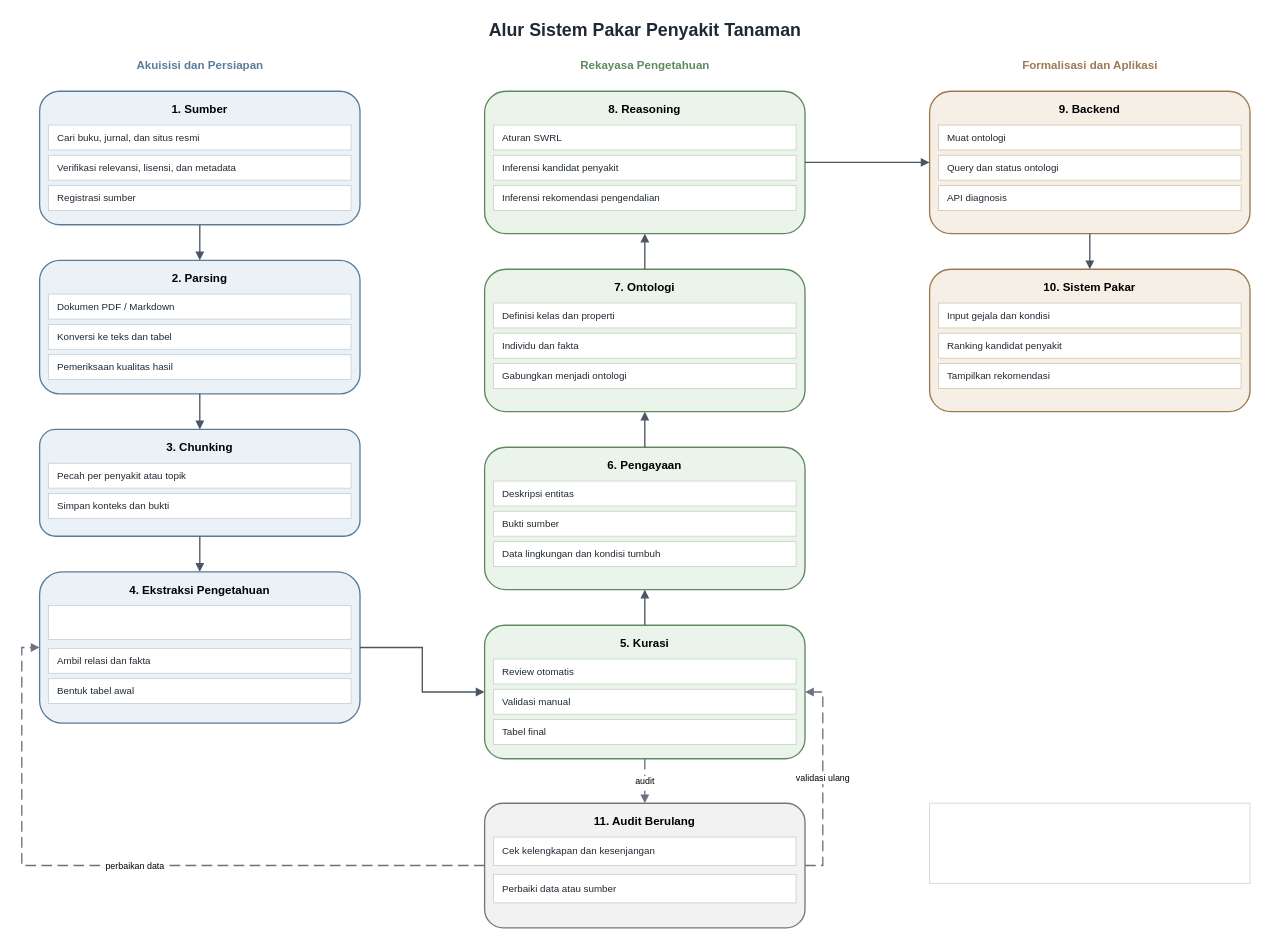
This 1266x943 diagram has some shape labels left out. The shapes that lost their labels are listed below. From the top down, each one's centre as x and y in pixels, then its label:
At (x=199, y=622): "Entitas: tanaman, penyakit, patogen, gejala, pengendalian".
At (x=1089, y=842): "Keterangan Garis solid: alur utama Garis putus-putus: audit dan perbaikan".
